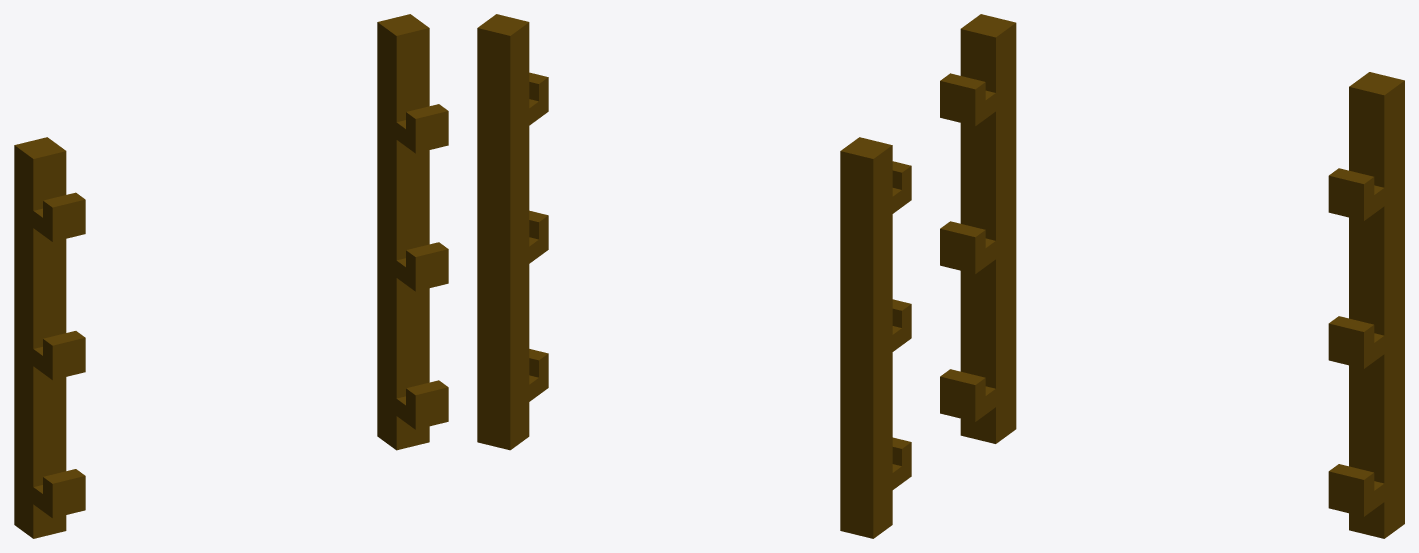
Rendered from weaponrack.gltf.
3 renders of one model, left to right at view 1: azimuth 30°, elevation 25°; view 2: azimuth 150°, elevation 25°; view 3: azimuth 330°, elevation 25°, orthographic. The views are drawn at different scales.
Parts seen in each view (by area): view 1: Layer.1; view 2: Layer.1; view 3: Layer.1.
Part boxes in pixels (box(x1,y1,x2,y2)): Layer.1: box(14, 14, 448, 538); Layer.1: box(477, 14, 911, 538); Layer.1: box(940, 14, 1404, 538).
Size of the model in its own units: 24 by 24 by 4.
1 material, 1 textured.
